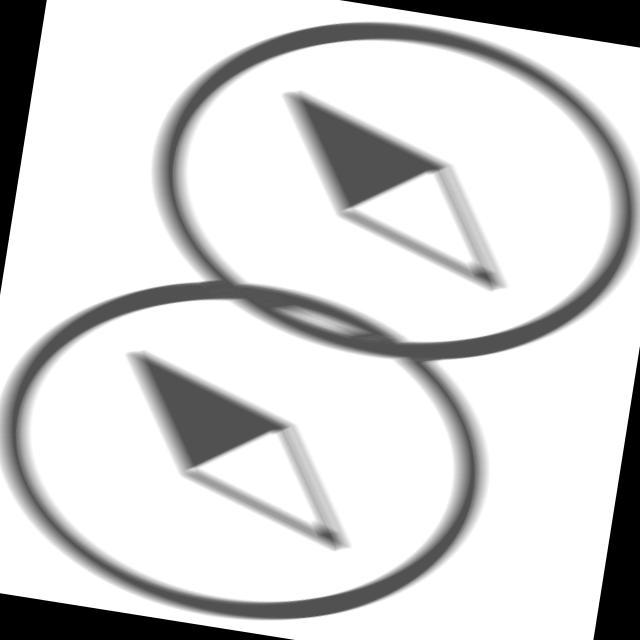compass: (1, 228, 535, 640), (117, 1, 640, 416)
